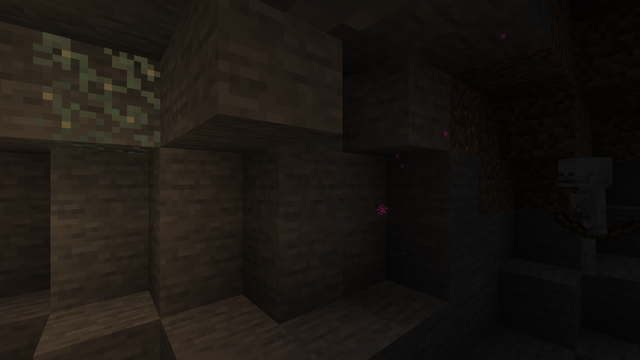squelettes: (556, 157, 607, 280)
